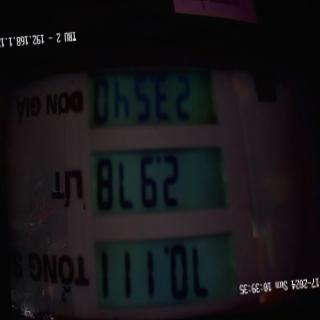screen: (64, 44, 250, 319)
